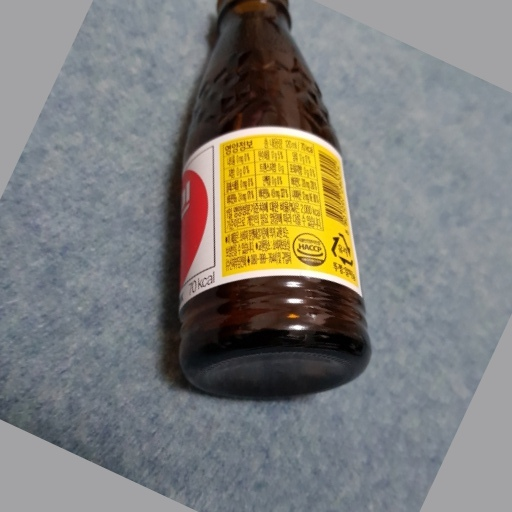Glass_3: (170, 1, 371, 402)
